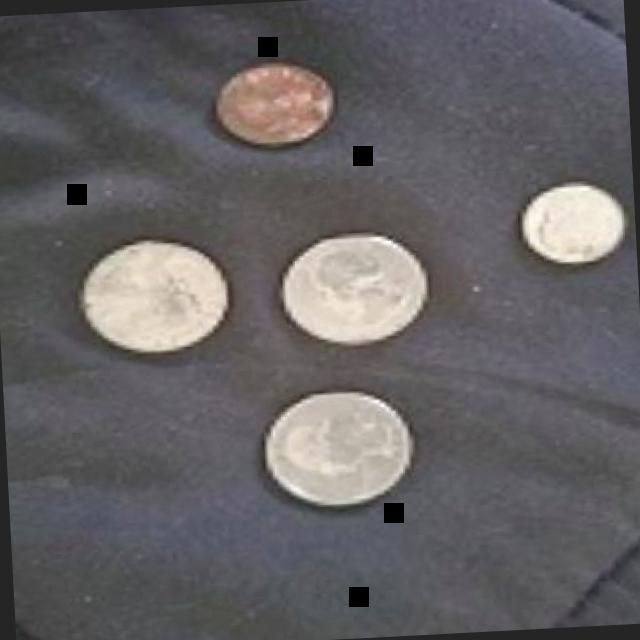Dime: (509, 176, 632, 274)
Penny: (205, 47, 346, 162)
Quarter: (62, 226, 235, 362), (262, 222, 438, 353), (254, 382, 420, 518)
